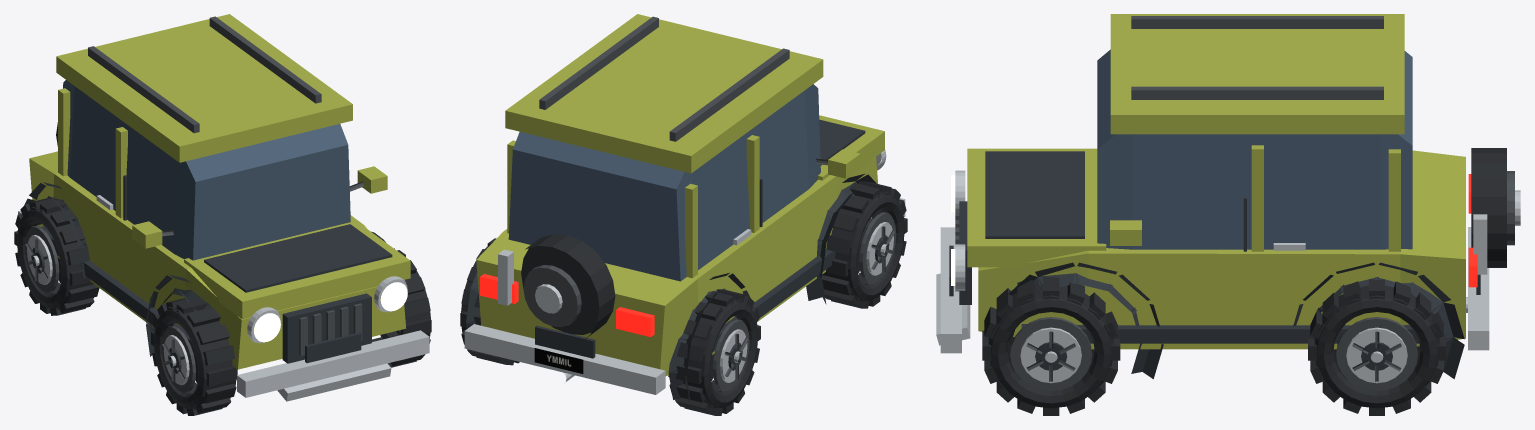
File: offroad-car.glb
The picture shows the model from 3 angles, left to right: view 1: azimuth 30°, elevation 25°; view 2: azimuth 150°, elevation 25°; view 3: azimuth 270°, elevation 25°; orthographic projection. The views are drawn at different scales.
Visible parts, largest first — view 1: body-detail, wheel-front-left, wheel-back-left, wheel-front-right; view 2: body-detail, wheel-front-left, wheel-back-left, wheel-back-right; view 3: body-detail, wheel-front-right, wheel-back-right.
Part boxes in pixels (x1,y1,x2,y2): body-detail: (18, 14, 429, 401); wheel-front-left: (151, 298, 237, 415); wheel-back-left: (14, 197, 99, 315); wheel-front-right: (372, 248, 431, 367); body-detail: (464, 14, 905, 403); wheel-front-left: (822, 181, 907, 308); wheel-back-left: (668, 289, 760, 415); wheel-back-right: (460, 238, 519, 365); body-detail: (936, 14, 1520, 379); wheel-front-right: (982, 276, 1120, 415); wheel-back-right: (1308, 279, 1445, 415).
Size of the model in its own units: 1.87 by 1.85 by 3.28.
9 materials, 1 textured.
